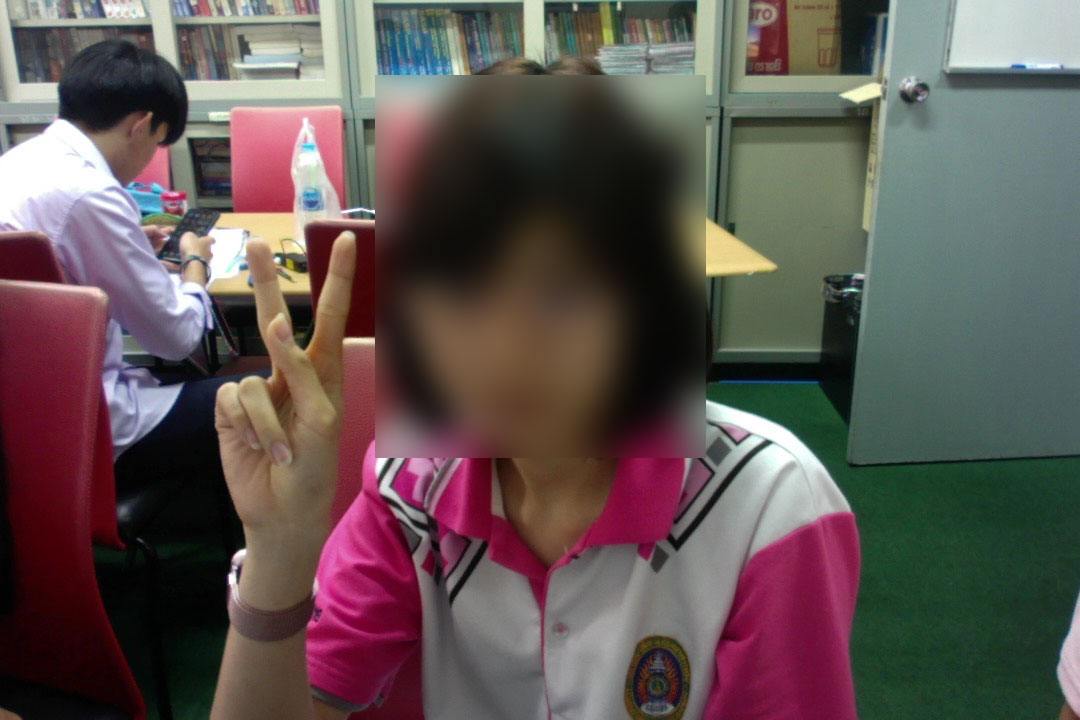ko: (192, 217, 371, 561)
